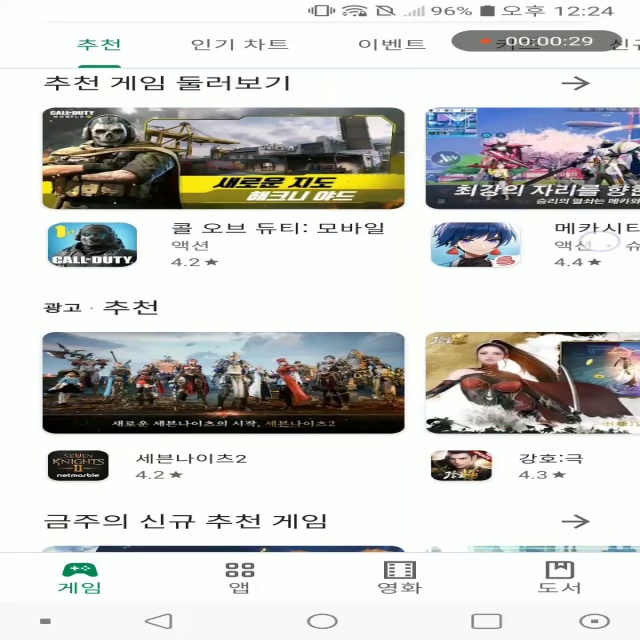Cursor: (577, 231, 622, 253)
